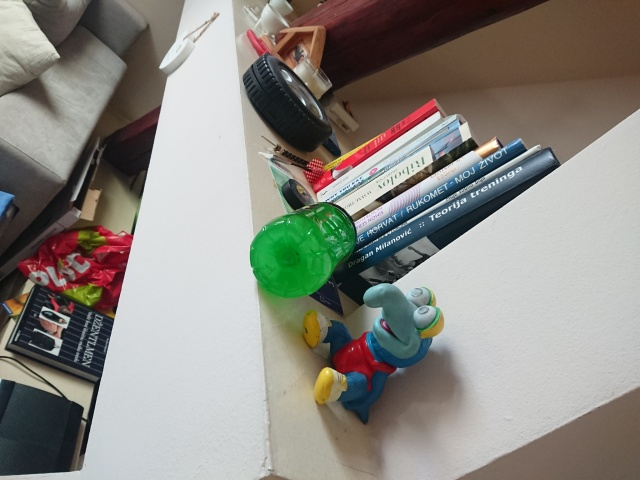Vindi Iso Sport Lemon-Grapefruit 500mL: (246, 199, 360, 300)
